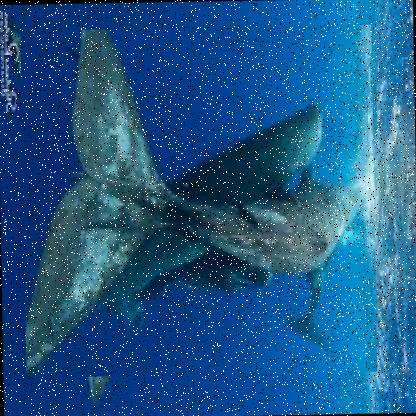sperm_whale: (19, 22, 377, 376)
